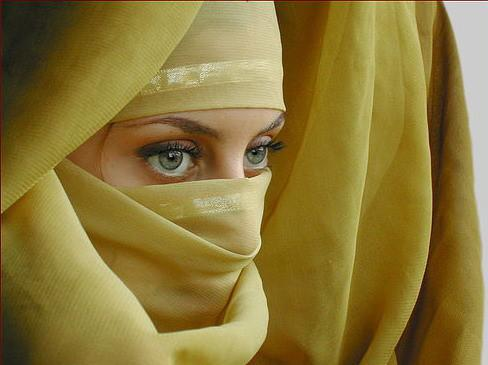OK: (74, 99, 283, 317)
